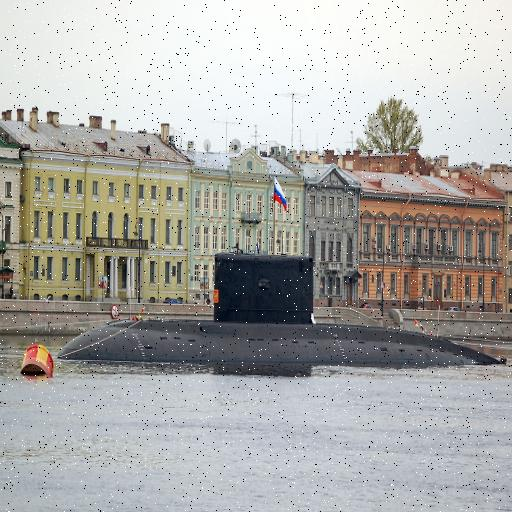submarine: (53, 253, 506, 366)
